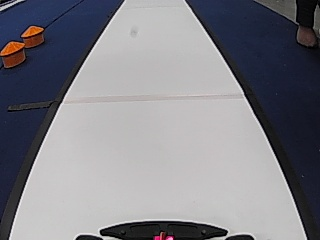granary: (0, 40, 25, 68), (20, 24, 44, 48)
